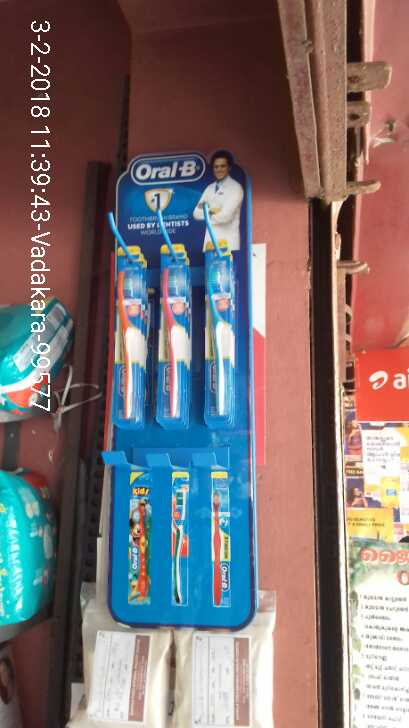oralb: (203, 238, 233, 424), (158, 239, 187, 423), (117, 245, 139, 421)
